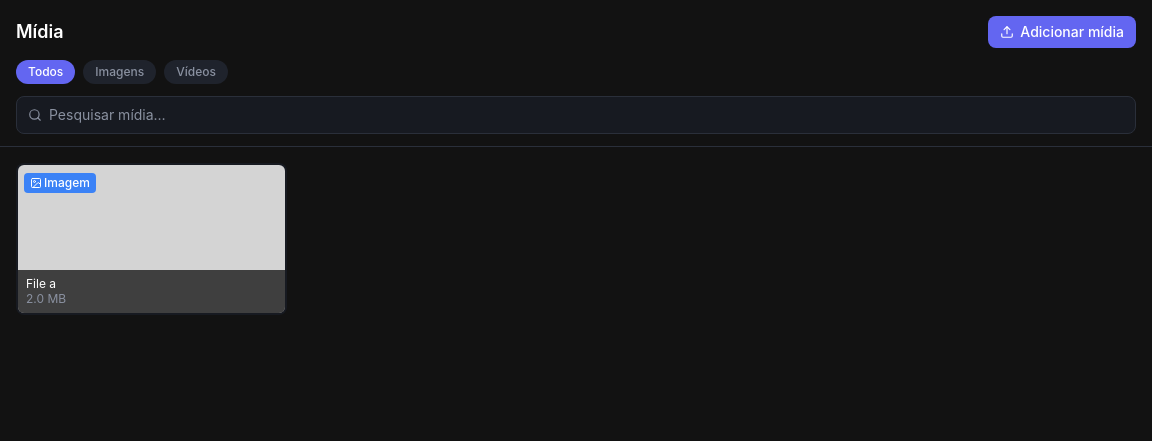
Test: MediaLibrary › clicking a card opens the detail panel
Click the button with test id "media-card-a": (152,239) 16,163 -> 287,315
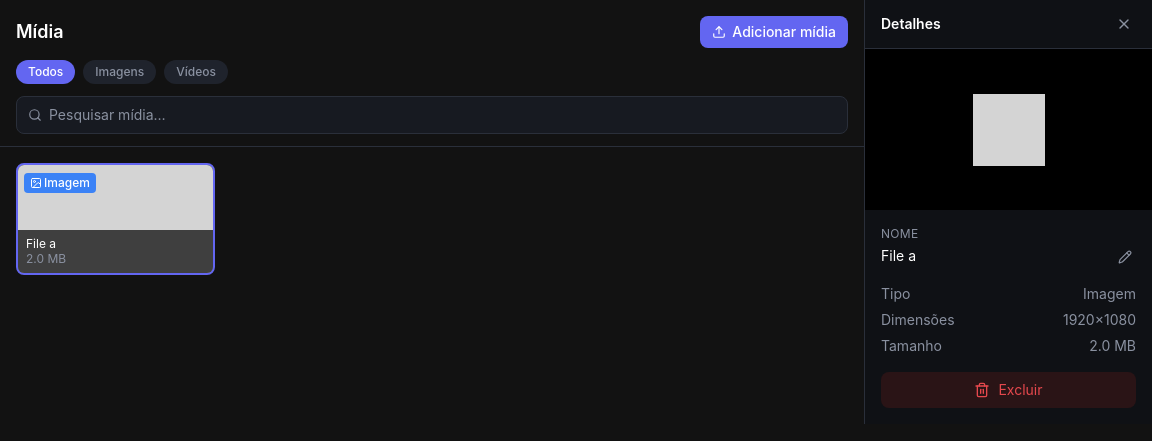
Check: the button with test id "detail-close" is shown, box 1112,12 -> 1136,36
Check: the text with test id "display-name" reads "File a", box 881,247 -> 916,264
